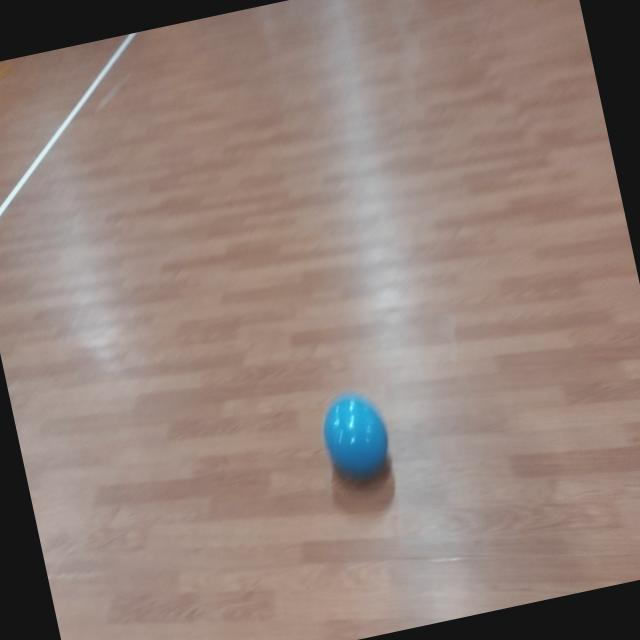blue_ball: (314, 386, 398, 485)
